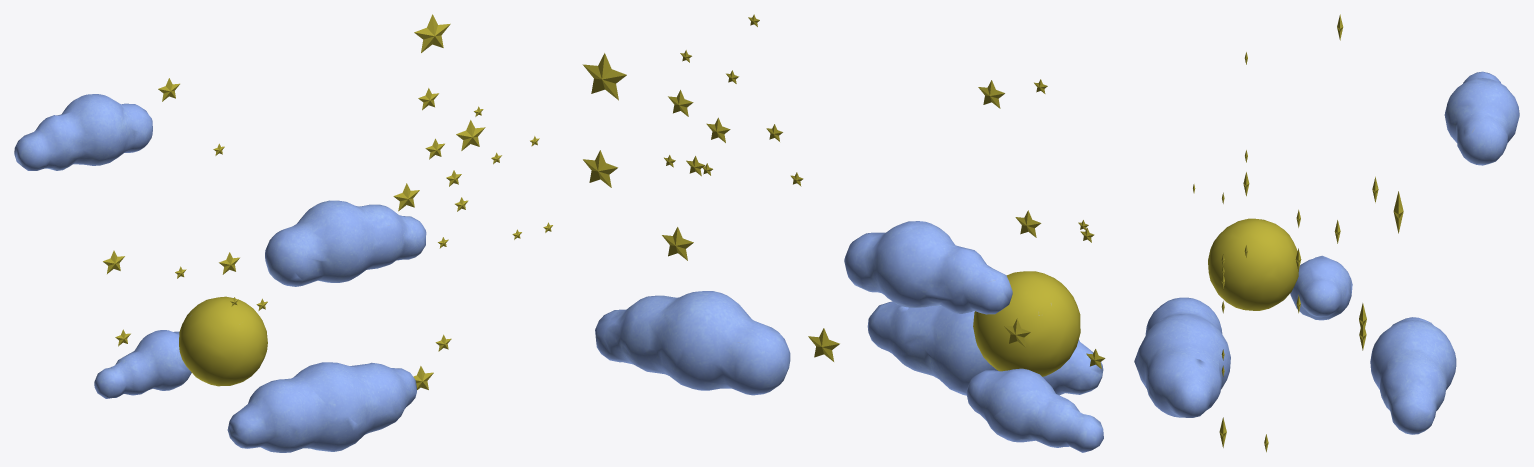
Rendered from moonstar.fbx.
The picture shows the model from 3 angles, left to right: view 1: azimuth 30°, elevation 25°; view 2: azimuth 150°, elevation 25°; view 3: azimuth 270°, elevation 25°; orthographic projection. The views are drawn at different scales.
Visible parts, largest first — view 1: moonstar; view 2: moonstar; view 3: moonstar.
Boxes of the visible parts, bbox=[...] form: moonstar: bbox=[14, 14, 552, 452]; moonstar: bbox=[582, 14, 1105, 452]; moonstar: bbox=[1134, 14, 1519, 452].
Size of the model in its own units: 108 by 83.83 by 84.36.
